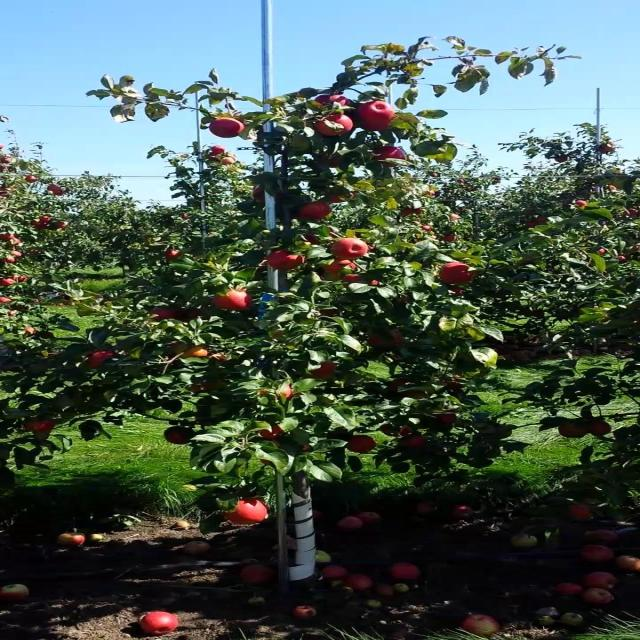apple: (227, 500, 270, 527), (212, 292, 254, 312), (355, 100, 398, 119), (333, 240, 372, 260), (319, 116, 356, 136), (212, 120, 249, 140), (269, 252, 306, 272), (440, 264, 476, 284), (319, 260, 357, 278), (319, 264, 357, 282), (170, 340, 206, 359), (84, 352, 119, 370), (376, 148, 405, 168), (298, 204, 334, 220), (369, 332, 405, 348), (177, 344, 212, 360), (348, 436, 377, 455), (163, 428, 192, 446), (262, 388, 300, 401), (148, 308, 180, 323), (561, 424, 588, 440), (312, 364, 340, 379), (568, 504, 594, 520), (589, 420, 613, 437), (319, 96, 354, 107), (262, 424, 286, 440), (383, 424, 412, 437), (305, 232, 334, 245), (362, 120, 393, 132), (212, 148, 235, 164), (326, 192, 356, 204), (383, 424, 412, 436), (348, 276, 377, 288), (184, 308, 206, 322), (326, 96, 354, 107), (404, 436, 427, 448), (340, 276, 364, 287), (35, 420, 57, 432), (447, 376, 464, 391), (305, 232, 324, 245), (440, 412, 459, 425), (390, 380, 412, 391), (333, 96, 354, 107), (212, 352, 231, 364), (191, 384, 212, 394), (319, 308, 341, 317), (397, 424, 412, 437), (28, 420, 44, 432), (326, 156, 341, 168), (397, 424, 412, 436), (163, 252, 185, 260), (255, 188, 267, 202), (369, 280, 382, 288), (454, 288, 464, 296)
